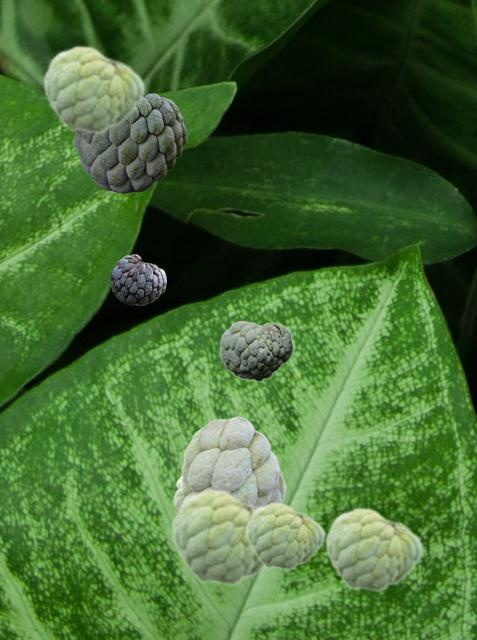atis: (74, 93, 186, 192), (173, 416, 285, 508), (170, 487, 265, 586), (42, 44, 144, 134), (324, 506, 422, 592), (245, 501, 324, 570), (219, 320, 293, 381), (110, 254, 165, 304)
